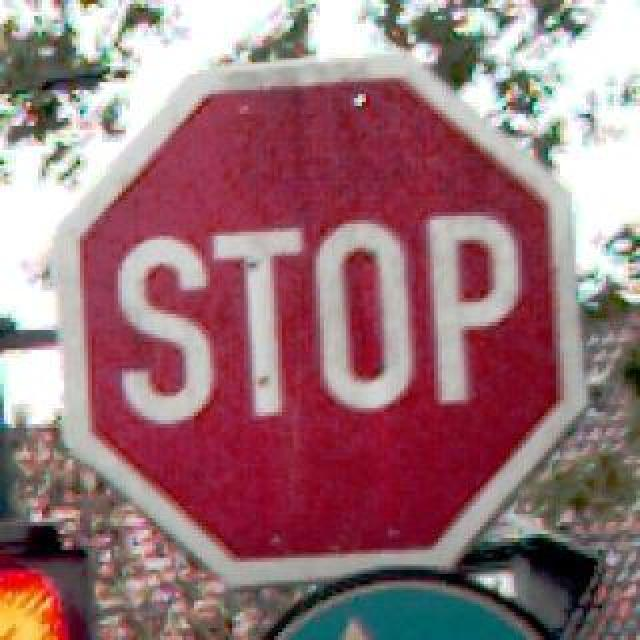stop: (50, 56, 584, 582)
